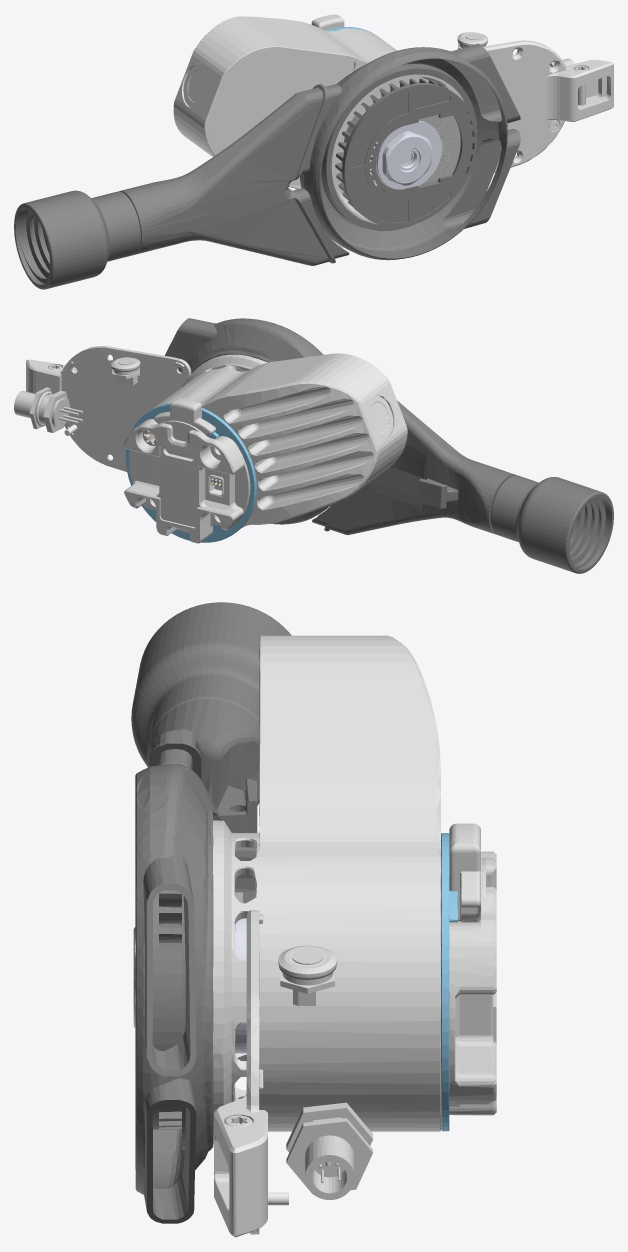
Rendered from sanding_kit.opt.glb.
The picture shows the model from 3 angles, top to bottom: view 1: azimuth 30°, elevation 25°; view 2: azimuth 150°, elevation 25°; view 3: azimuth 270°, elevation 25°; orthographic projection. The views are drawn at different scales.
Visible parts, largest first — view 1: sanding_kit; view 2: sanding_kit; view 3: sanding_kit.
Boxes of the visible parts, x1,y1,x2,y2 form: sanding_kit: (14,14,613,289); sanding_kit: (14,318,613,573); sanding_kit: (131,602,496,1237).
Size of the model in its own units: 0.0031 by 0.0011 by 0.000868.
